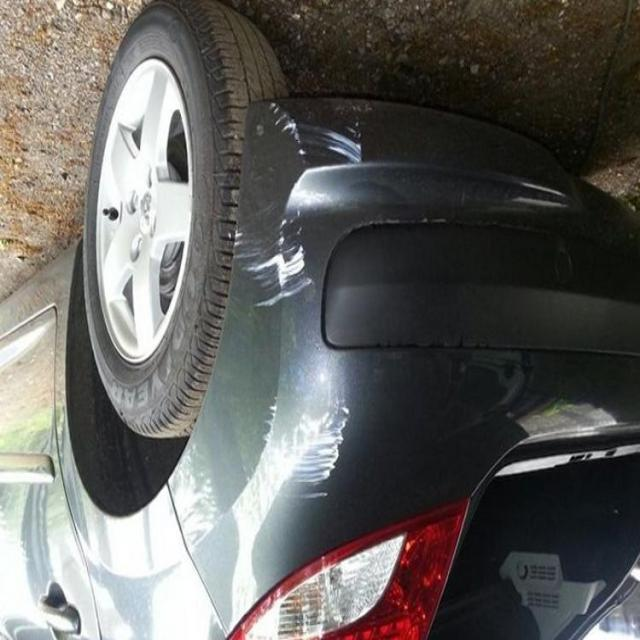scratch: (226, 92, 364, 320), (244, 375, 356, 515)
